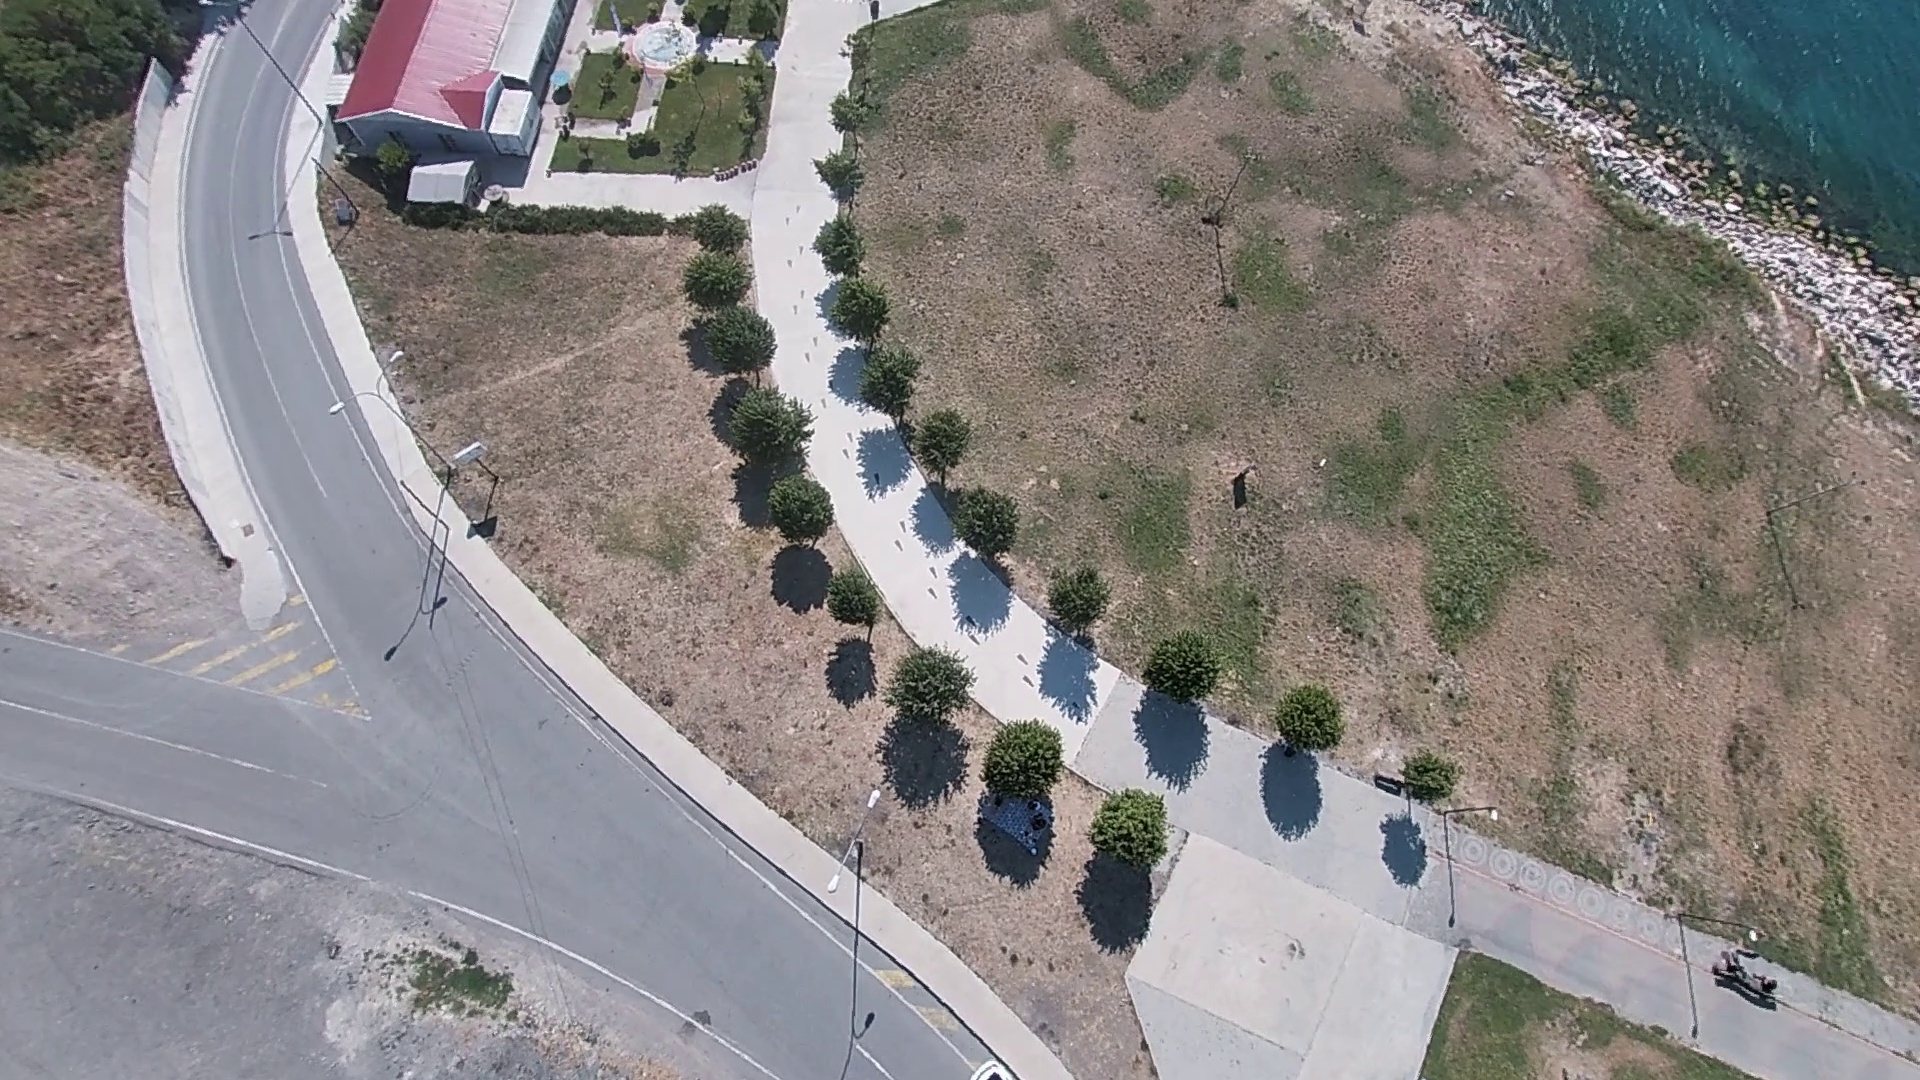insan: (1229, 470, 1249, 514)
